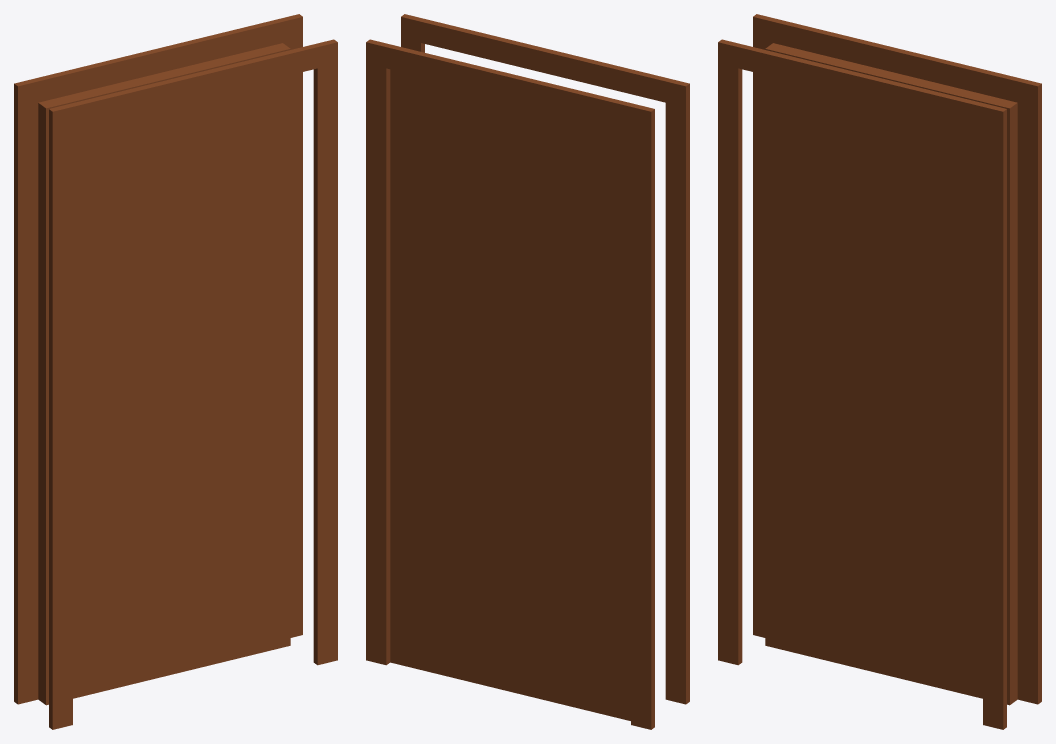
The model's file is 3LhSTesrr2xxw9MQ7ULlxY.dae.
The picture shows the model from 3 angles, left to right: view 1: azimuth 30°, elevation 25°; view 2: azimuth 150°, elevation 25°; view 3: azimuth 330°, elevation 25°; orthographic projection.
Visible parts, largest first — view 1: product-d5adc768-db5d-42ef-be89-59a1de56fee2-body; view 2: product-d5adc768-db5d-42ef-be89-59a1de56fee2-body; view 3: product-d5adc768-db5d-42ef-be89-59a1de56fee2-body.
Part boxes in pixels (bbox=[...]): product-d5adc768-db5d-42ef-be89-59a1de56fee2-body: bbox=[14, 14, 337, 729]; product-d5adc768-db5d-42ef-be89-59a1de56fee2-body: bbox=[366, 14, 689, 729]; product-d5adc768-db5d-42ef-be89-59a1de56fee2-body: bbox=[718, 14, 1041, 729].
Size of the model in its own units: 1.07 by 0.25 by 2.21.
